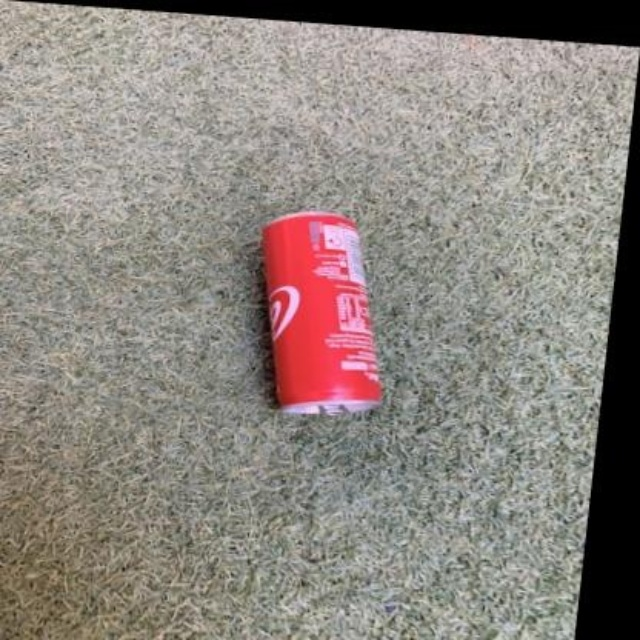trash: (263, 212, 380, 412)
